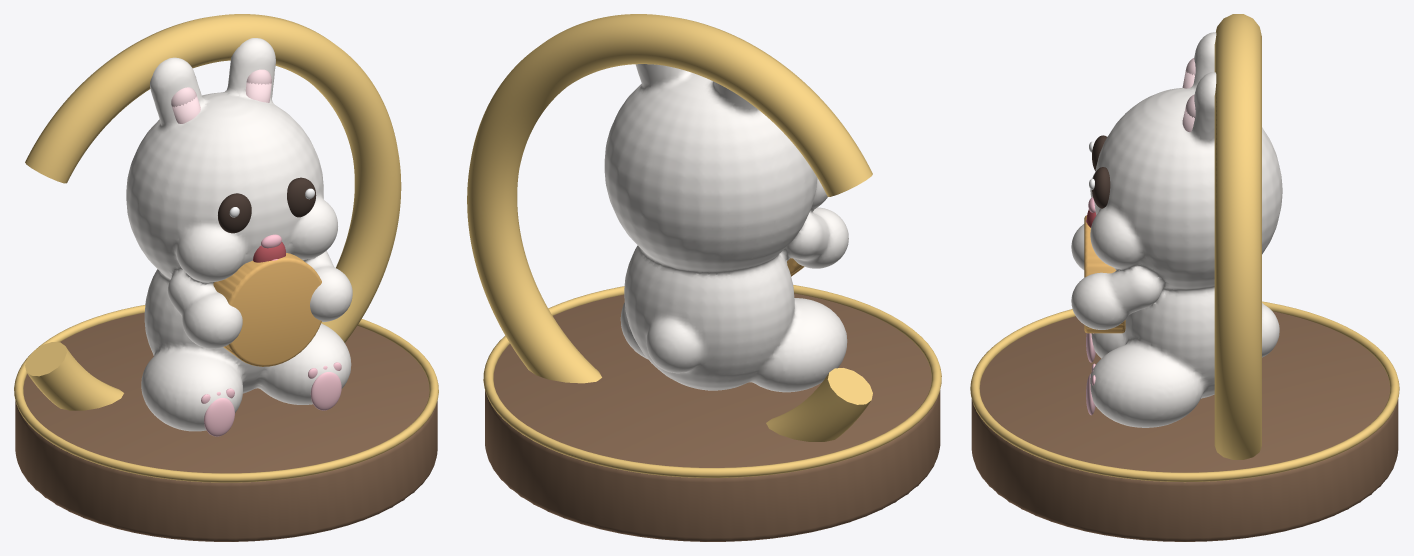
File: yutu_v1.glb
3 views of the same model, side by side, from view 1: azimuth 30°, elevation 25°; view 2: azimuth 150°, elevation 25°; view 3: azimuth 270°, elevation 25° (orthographic). The views are drawn at different scales.
Visible parts, largest first — view 1: 底座, 玉兔主体, 月环, 月饼, 底座金箍, 眼睛, 脚掌大垫.001, 脚掌大垫, 眼睛.001, 左耳内耳, 右耳内耳; view 2: 底座, 玉兔主体, 月环, 底座金箍; view 3: 底座, 玉兔主体, 月环, 底座金箍, 月饼, 眼睛.001.
Boxes of the visible parts, x1=… form: 底座: x1=15, y1=312, x2=437, y2=541; 玉兔主体: x1=126, y1=38, x2=352, y2=431; 月环: x1=25, y1=14, x2=401, y2=410; 月饼: x1=213, y1=253, x2=321, y2=366; 底座金箍: x1=14, y1=305, x2=438, y2=482; 眼睛: x1=218, y1=193, x2=251, y2=233; 脚掌大垫.001: x1=310, y1=372, x2=341, y2=410; 脚掌大垫: x1=204, y1=398, x2=234, y2=436; 眼睛.001: x1=287, y1=177, x2=316, y2=217; 左耳内耳: x1=171, y1=87, x2=200, y2=123; 右耳内耳: x1=245, y1=69, x2=271, y2=102; 底座: x1=485, y1=293, x2=940, y2=541; 玉兔主体: x1=604, y1=64, x2=848, y2=392; 月环: x1=467, y1=14, x2=872, y2=441; 底座金箍: x1=483, y1=285, x2=941, y2=477; 底座: x1=971, y1=311, x2=1398, y2=541; 玉兔主体: x1=1071, y1=32, x2=1282, y2=427; 月环: x1=1214, y1=14, x2=1261, y2=459; 底座金箍: x1=970, y1=301, x2=1399, y2=482; 月饼: x1=1084, y1=215, x2=1125, y2=333; 眼睛.001: x1=1092, y1=167, x2=1110, y2=208.
Size of what is drawn, in the model's own units: 75.1 by 77.9 by 72.4.
